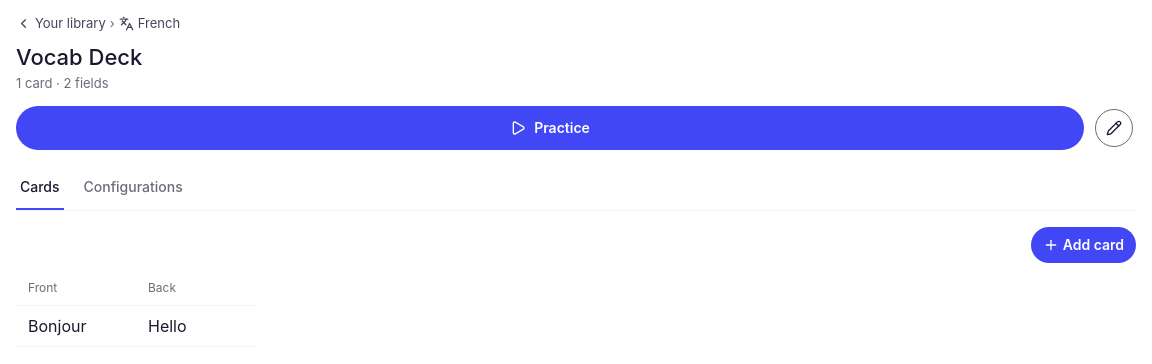
Test case: DeckDetailPage › Configurations tab › starts on Cards and switches to this deck's configurations
The image size is (1152, 364).
Expected: the heading "Vocab Deck" is shown, [16, 44, 142, 70]
Expected: the text "Front to Back" is not shown
Click the tab "Configurations" at (133, 188), box [80, 166, 187, 210]
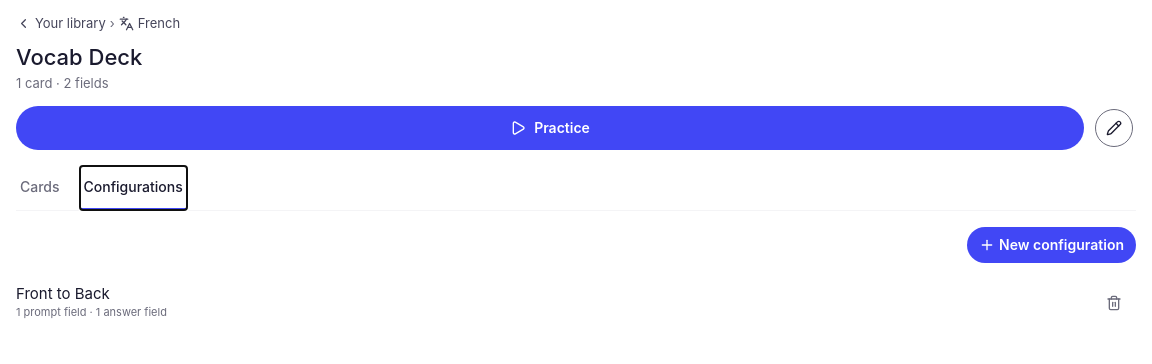
Result: the text "Front to Back" is shown at [16, 284, 110, 303]
